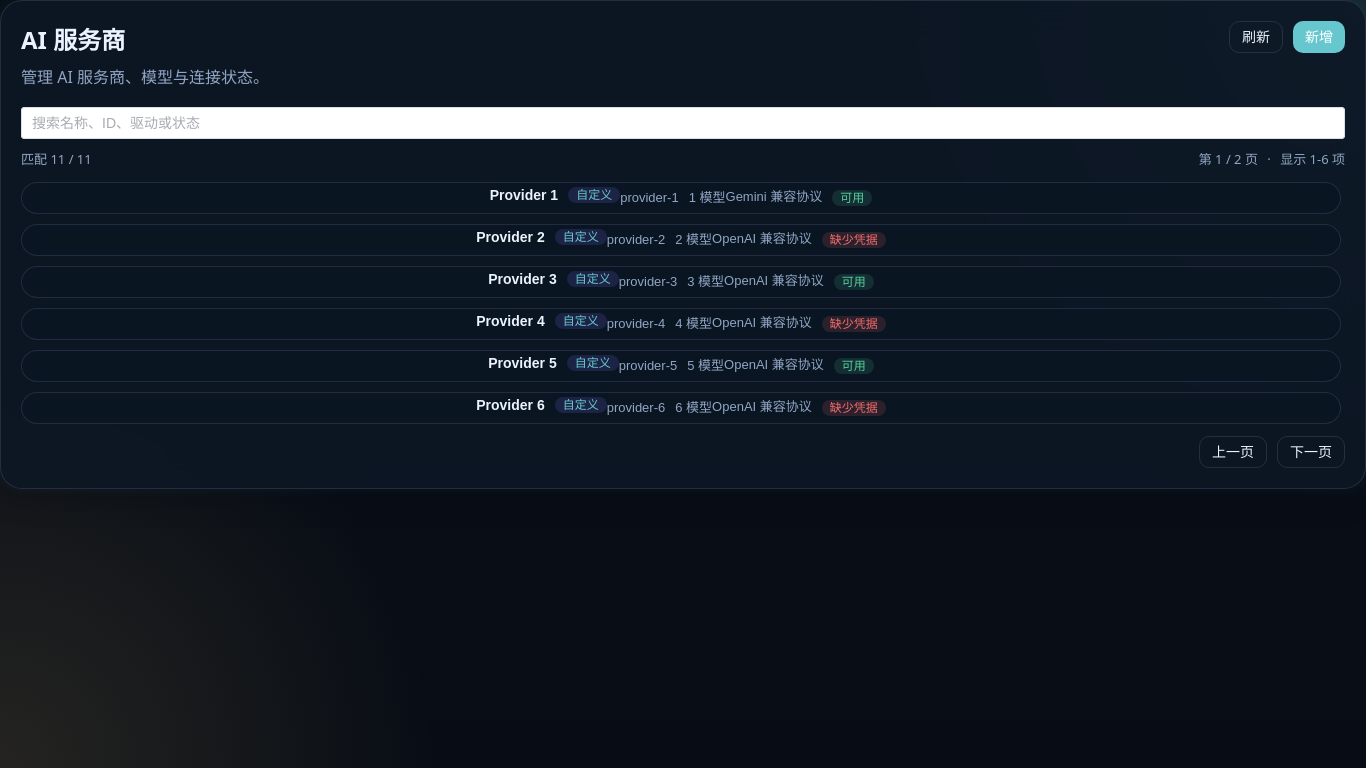
Test case: AiProviderSidebar › filters and paginates providers without rendering the full list at once
Click the button with test id "provider-sidebar-next-page" at (1311, 452), box [1277,436,1345,468]
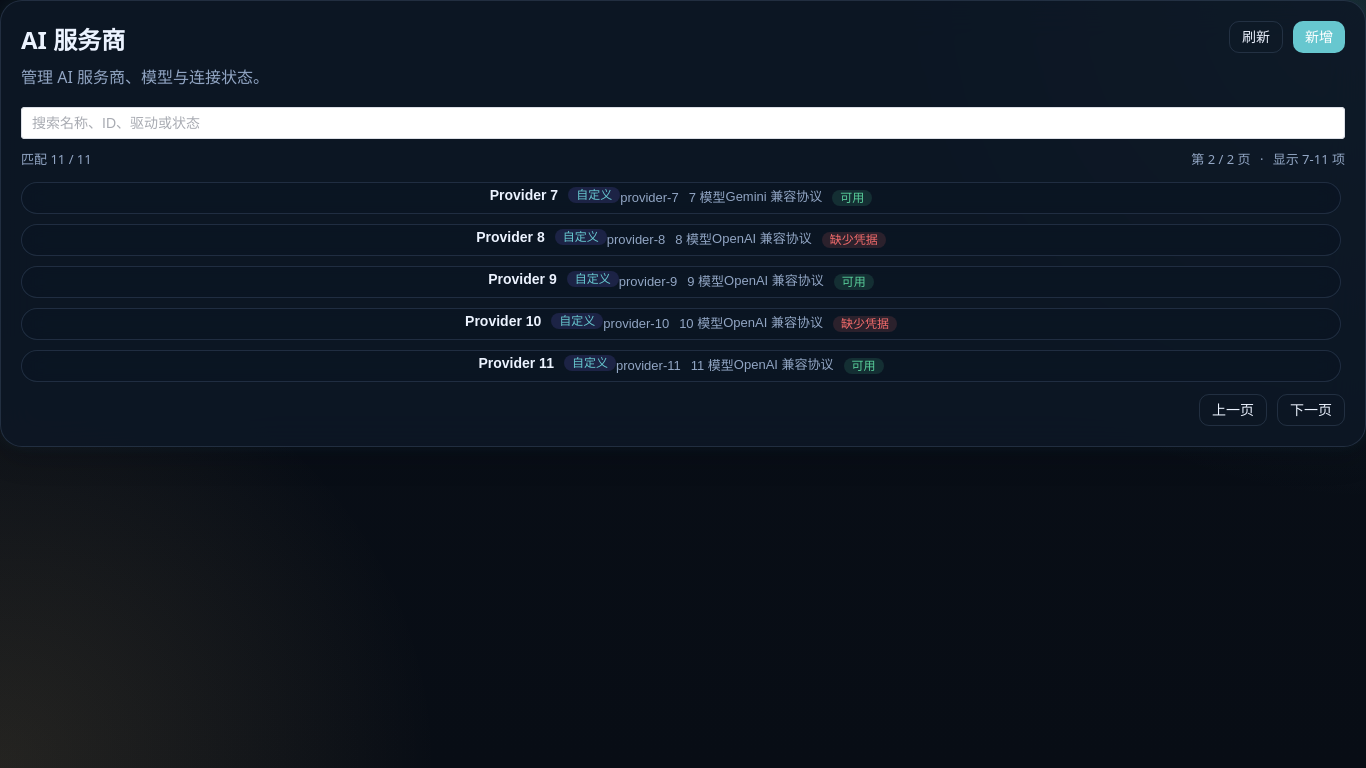
Now the text "第 2 / 2 页" is shown, box [1191,150,1254,168]
Now the text "Provider 7" is shown, box [490,188,558,202]
Type "provider-10" into the field with test id "provider-sidebar-search" at (683, 123), box [32,108,1334,138]
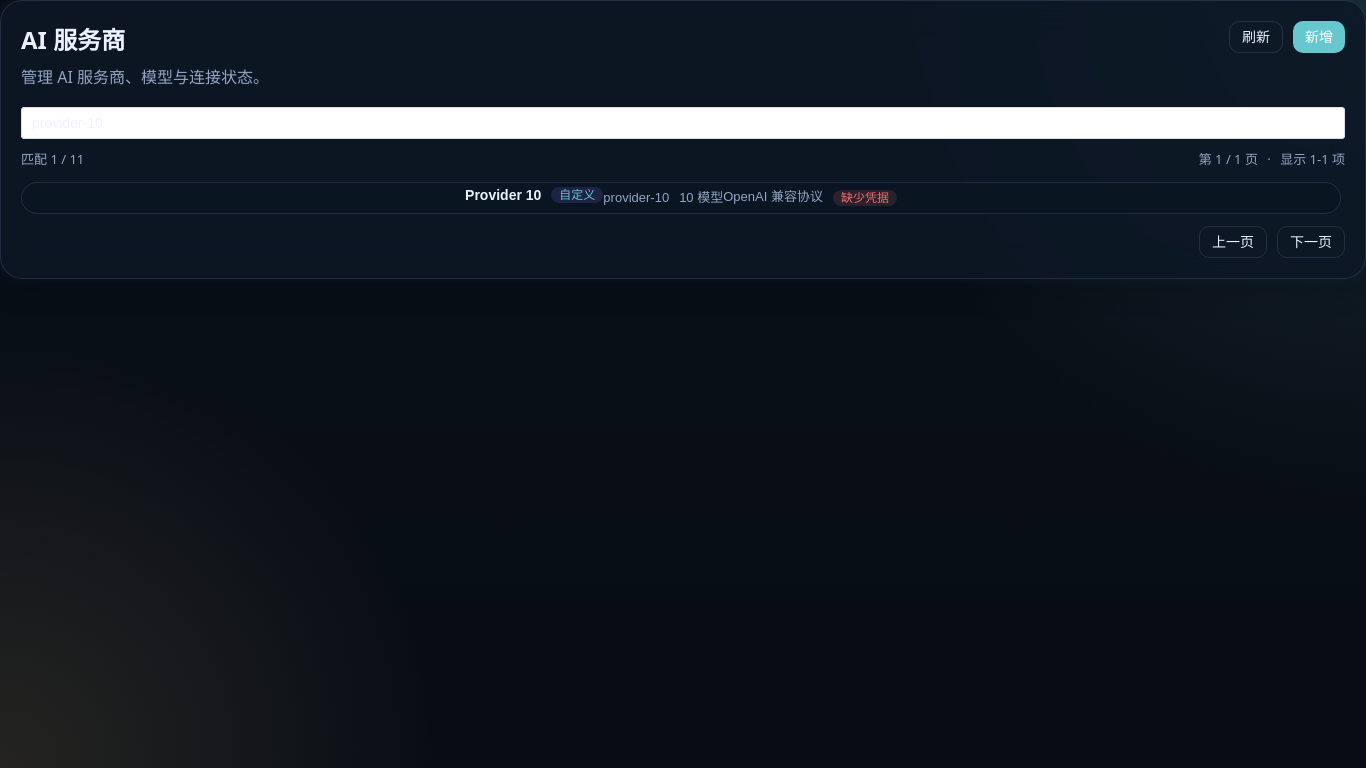
Now the text "Provider 10" is shown, box [465,188,541,202]
Now the text "匹配 1 / 11" is shown, box [21,149,84,170]
Now the text "第 1 / 1 页" is shown, box [1199,150,1261,168]
